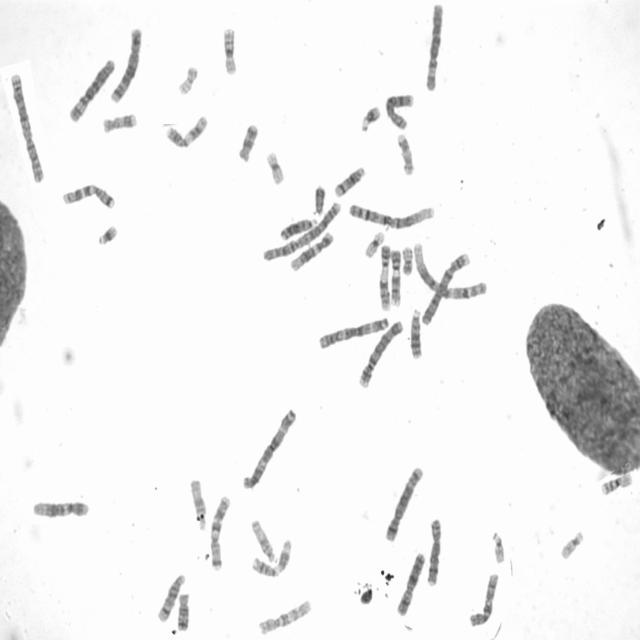A1: (409, 236, 489, 301), (344, 197, 436, 230)
A2: (259, 196, 343, 263), (6, 67, 46, 184)
A3: (238, 402, 299, 491), (315, 312, 391, 351)
B4: (418, 248, 472, 326), (356, 315, 404, 390)
B5: (382, 461, 424, 544), (108, 22, 144, 104)
C10: (254, 594, 314, 636), (466, 568, 500, 628)
C11: (248, 534, 294, 578), (162, 110, 209, 150)
C12: (286, 227, 335, 272), (28, 494, 91, 519)
C6: (66, 53, 116, 124), (421, 0, 445, 92)
C7: (206, 491, 232, 572), (58, 179, 116, 210)
C8: (424, 513, 444, 588), (382, 88, 416, 131)
C9: (376, 240, 392, 314), (388, 244, 402, 308)
D13: (276, 213, 316, 241), (407, 303, 423, 360)
D14: (154, 568, 187, 623), (330, 161, 367, 198)
D15: (247, 515, 278, 564), (186, 473, 209, 532)
E16: (219, 21, 239, 76), (597, 468, 634, 496)
E17: (394, 128, 416, 176), (99, 108, 138, 134)
E18: (234, 118, 260, 163), (174, 588, 192, 632)
F19: (263, 146, 286, 186), (361, 226, 386, 259)
F20: (174, 60, 200, 96), (399, 241, 414, 277)
G21: (357, 100, 382, 133), (94, 219, 119, 247)
G22: (556, 525, 586, 561), (488, 526, 506, 565)
X: (393, 547, 427, 617)
Y: (311, 180, 327, 217)
